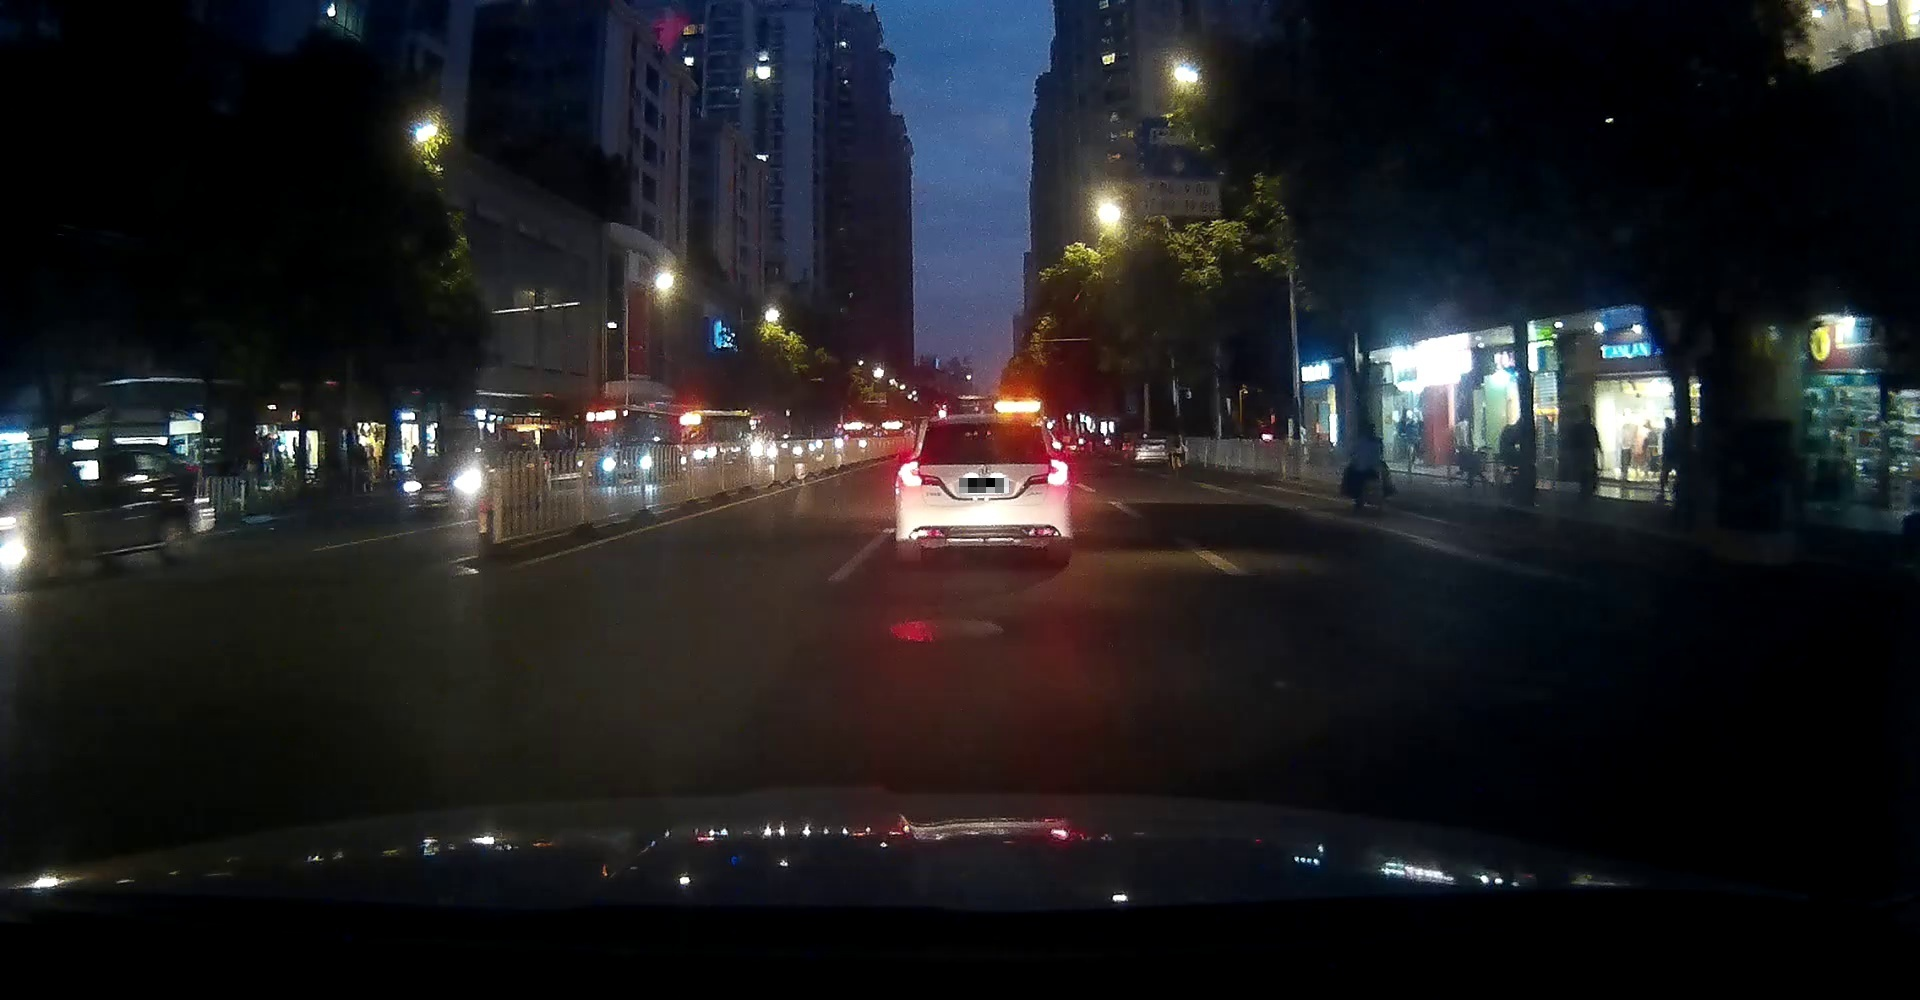L_light: (897, 459, 922, 489)
R_light: (1046, 457, 1069, 487)
T_light: (969, 418, 1003, 426)
night-no: (893, 412, 1073, 563)
plate_1: (959, 478, 1010, 492)
